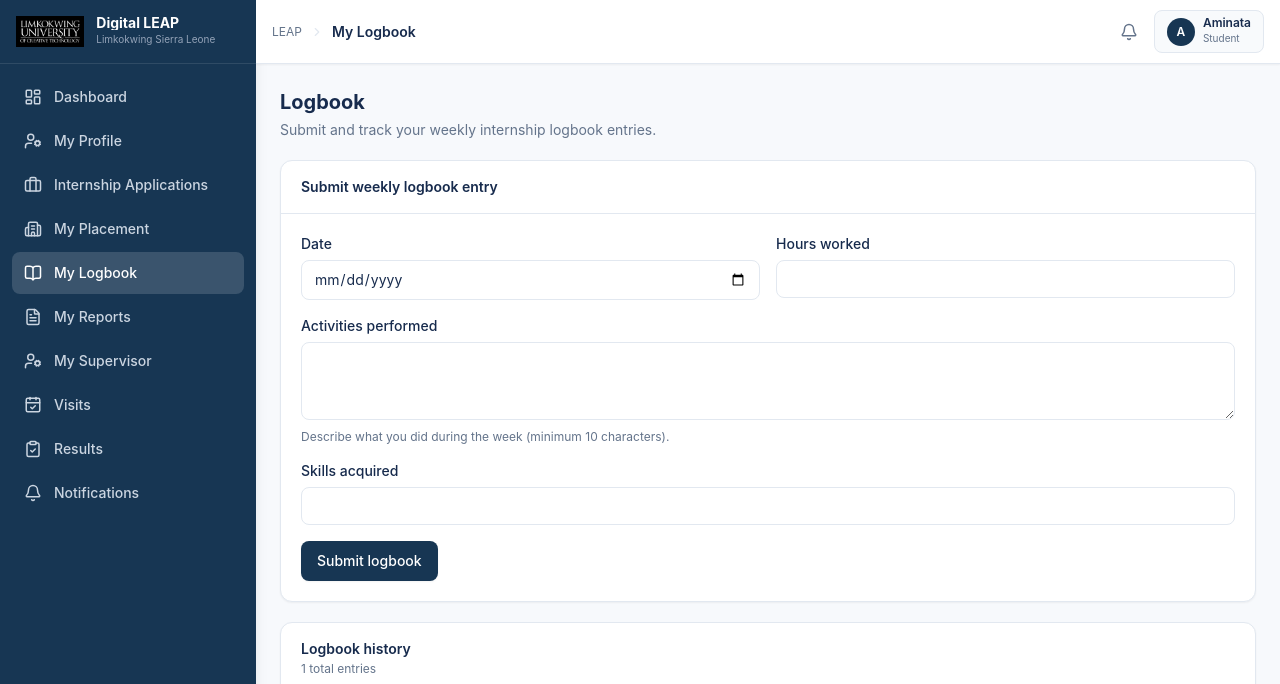
UI smoke: every page renders for every role without errors › student submits a logbook through the form
Type "2026-11-12" into the date field labelled "Date" at (530, 280), box [301,260,760,300]
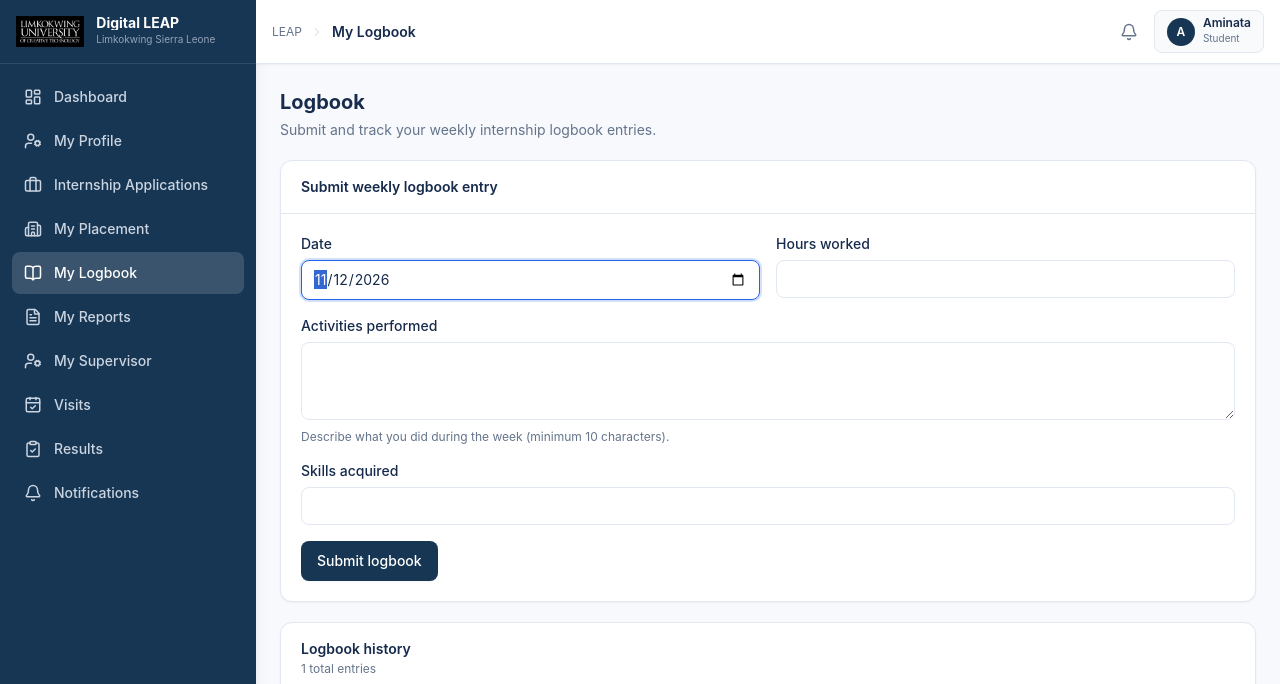
Type "40" into the number field labelled "Hours worked" at (1006, 279), box [776,260,1235,298]
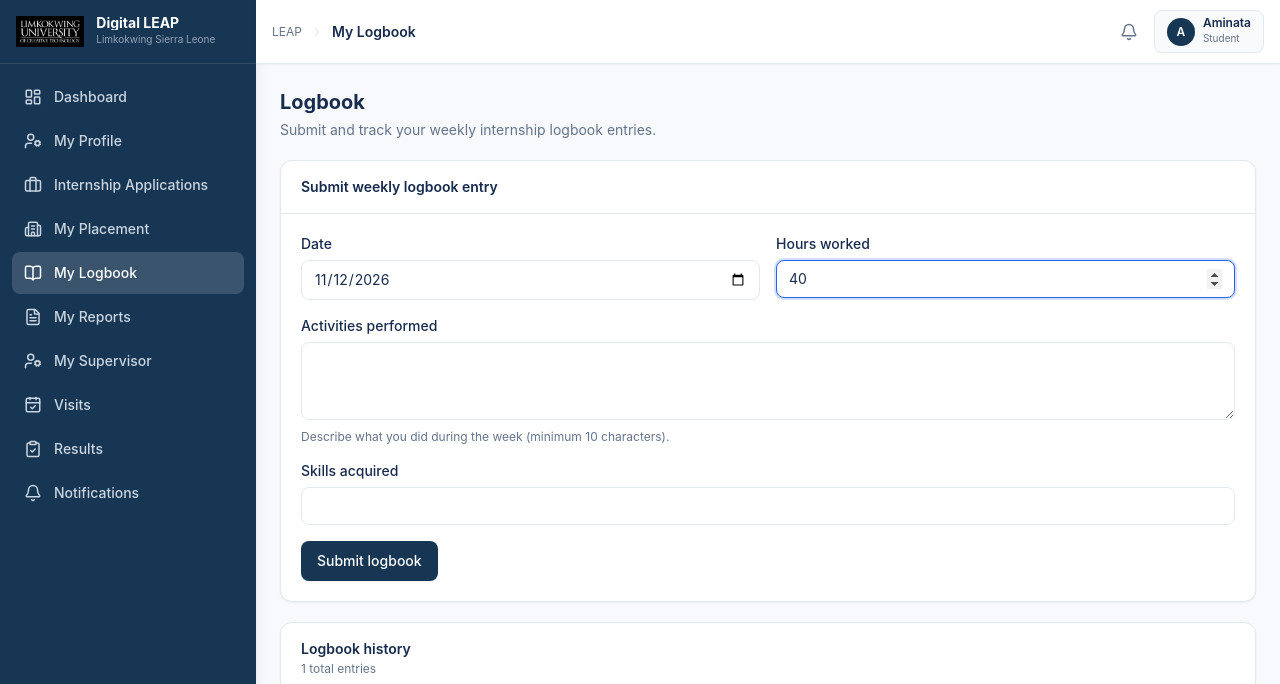
Type "Wrote unit tests for the API." into the text box labelled "Activities performed" at (768, 381), box [301,342,1235,420]
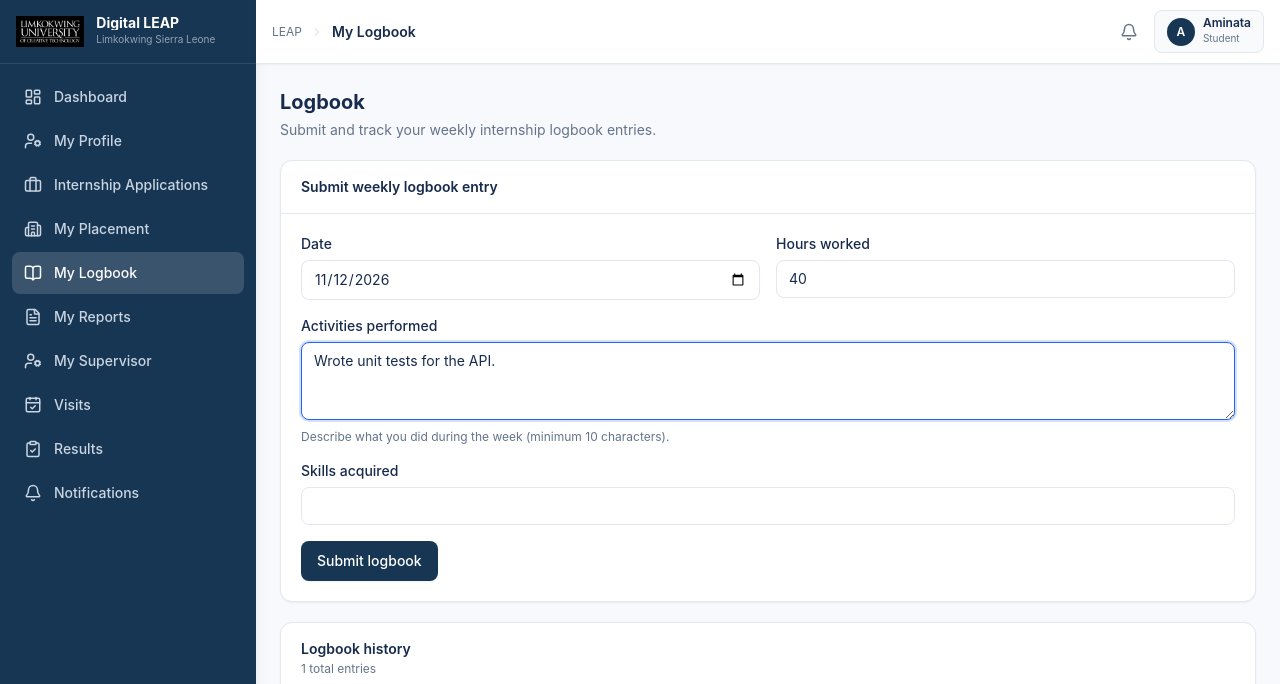
Type "Testing" into the field labelled "Skills acquired" at (768, 506), box [301,487,1235,525]
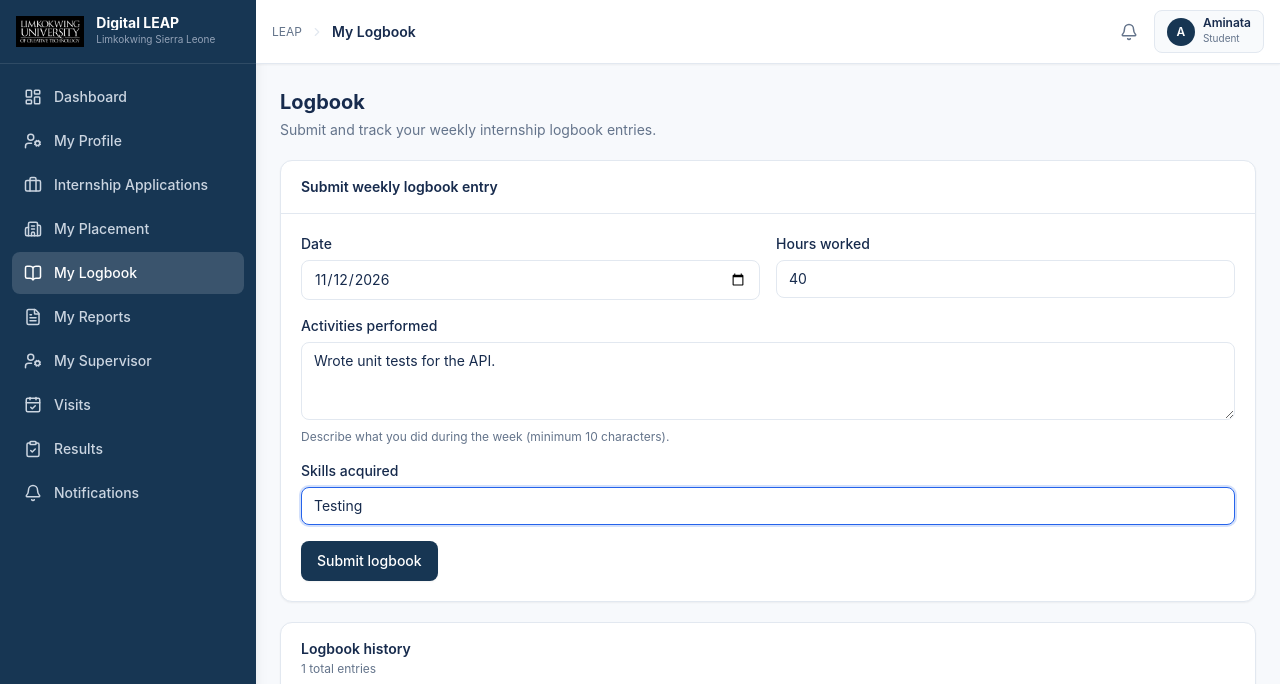
Click the button "Submit logbook" at (369, 561), box [301,541,438,581]
(page scrolled)
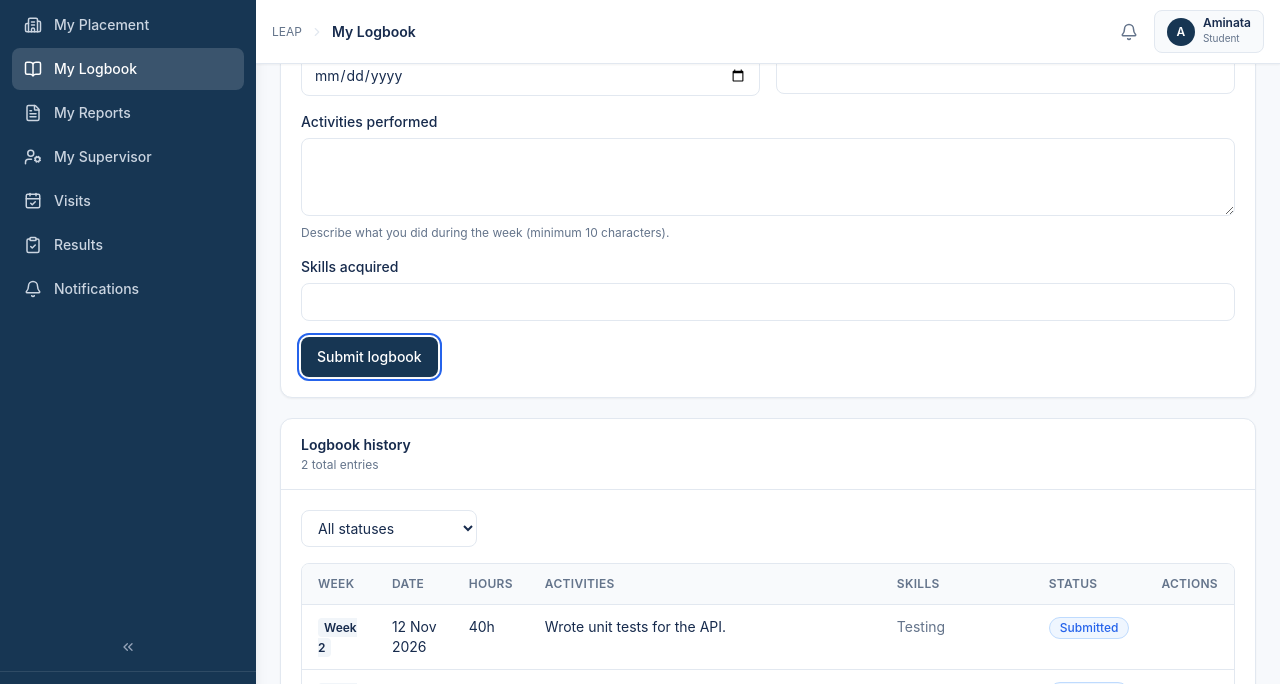
expect the text "Week 2" is shown: met, box [318,618,357,657]
